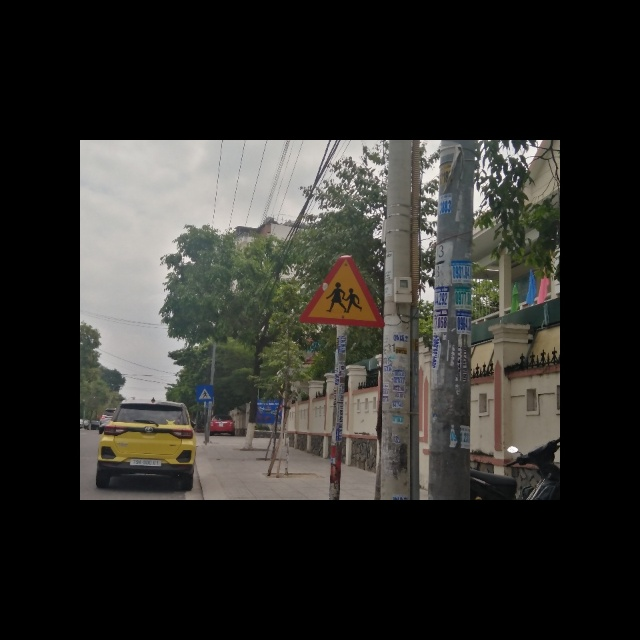Trẻ em ngang qua: (301, 255, 385, 328)
Đường dành cho người đi bộ: (195, 384, 213, 404)
